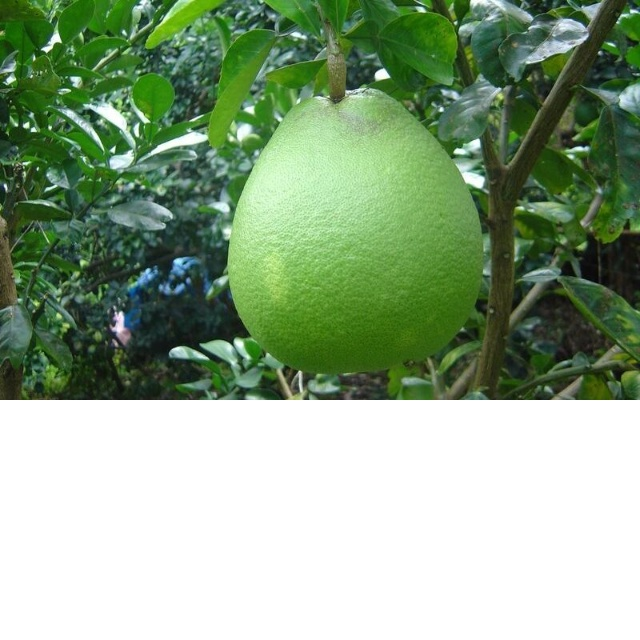buoi: (226, 85, 486, 377)
